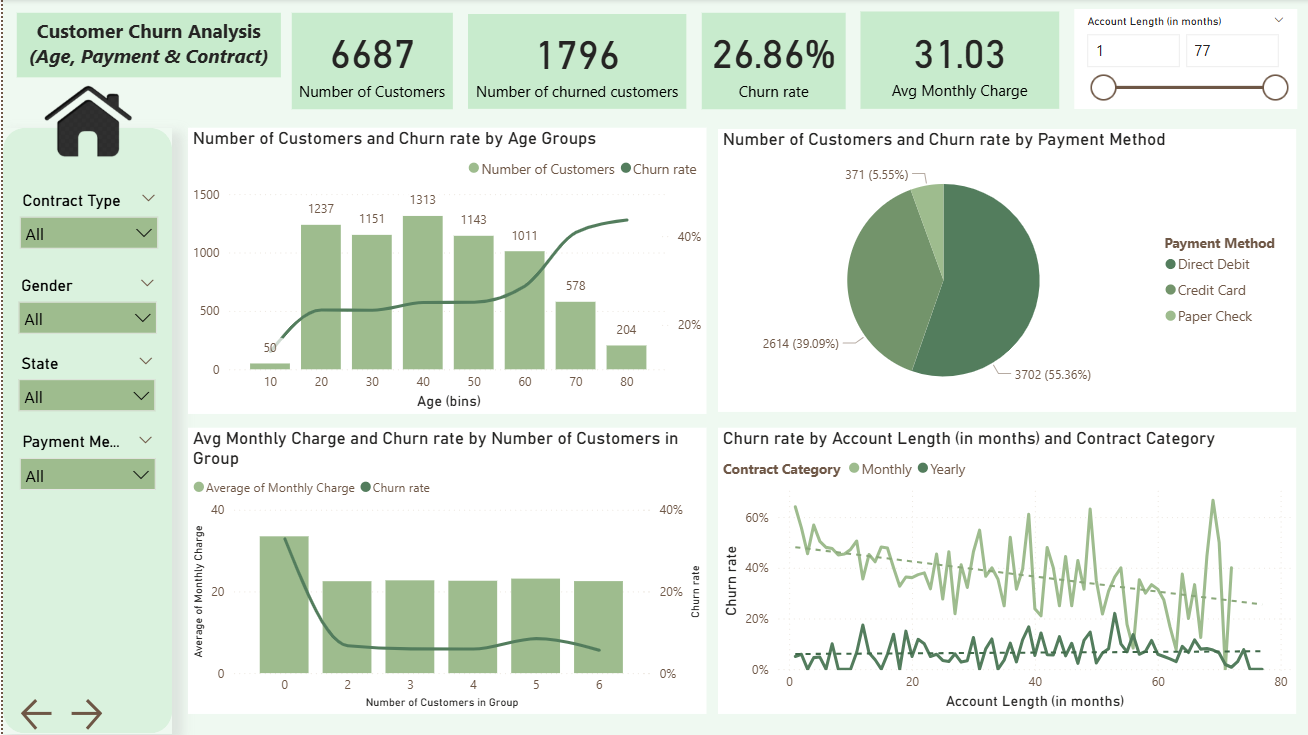

The dashboard page shown, as its layout file describes it:
{"tool":"powerbi","page":{"name":"Age, Payment & Contract","canvas":[1280,720],"ordinal":1},"visuals":[{"type":"shape","box":[0,125.7,165.7,592.9],"z":0},{"type":"textbox","box":[13.5,13.5,258,37.9],"z":1000},{"type":"image","box":[32.3,61.5,103.1,107.7],"z":2000},{"type":"slicer","fields":{"Values":["Databel - Data.Contract Type"]},"box":[5.8,183.2,155.8,85.1],"z":3000},{"type":"slicer","fields":{"Values":["Databel - Data.Gender"]},"box":[4.3,266.9,155.8,76.5],"z":4000},{"type":"slicer","fields":{"Values":["Databel - Data.State"]},"box":[4.3,341.9,154.4,77.9],"z":5000},{"type":"actionButton","box":[13,679.5,47.6,40.4],"z":6000},{"type":"actionButton","box":[60.6,679.5,51.9,40.4],"z":7000},{"type":"lineClusteredColumnComboChart","title":"Number of Customers and Churn rate by Age Groups","fields":{"Category":["Databel - Data.Age (bins)"],"Y2":["_Measures.Churn rate"],"Y":["_Measures.Number of Customers"]},"box":[181,126,507.5,280],"z":8000},{"type":"lineClusteredColumnComboChart","title":"Avg Monthly Charge and Churn rate by Number of Customers in Group","fields":{"Y":["Avg(Databel - Data.Monthly Charge)"],"Category":["Databel - Data.Number of Customers in Group"],"Y2":["_Measures.Churn rate"]},"box":[181,419.4,507.5,280],"z":9000},{"type":"slicer","fields":{"Values":["Databel - Data.Account Length (in months)"]},"box":[1048,9.8,217.7,97.8],"z":10000},{"type":"pieChart","fields":{"Category":["Databel - Data.Payment Method"],"Y":["_Measures.Number of Customers"]},"box":[699.7,127,565.6,277],"z":11000},{"type":"slicer","fields":{"Values":["Databel - Data.Payment Method"]},"box":[5.8,419.8,152.9,80.8],"z":12000},{"type":"lineChart","fields":{"Y":["_Measures.Churn rate"],"Category":["Databel - Data.Account Length (in months)"],"Series":["Databel - Data.Contract Category"]},"box":[699.7,419.8,565.6,279.9],"z":13000},{"type":"card","fields":{"Values":["_Measures.Number of Customers"]},"box":[282.5,13.5,157.7,94.2],"z":14000},{"type":"card","fields":{"Values":["_Measures.Number of churned customers"]},"box":[454.9,14.7,214,92.9],"z":15000},{"type":"card","fields":{"Values":["_Measures.Churn rate"]},"box":[683.6,13.5,140.6,94.2],"z":16000},{"type":"card","fields":{"Values":["Avg(Databel - Data.Monthly Charge)"]},"box":[838.9,12.2,194.4,95.4],"z":17000},{"type":"slicer","fields":{"Values":["Databel - Data.Age (bins)"]},"box":[5.8,493.4,152.9,72.1],"z":17001}]}

Visuals, with their boxes in screenshot pixels (x1, y1, x2, y2), scaled from the page's 1280x720 canvas onto the 1308x735 screenshot:
shape: 0/128/169/734
textbox: 14/14/277/52
image: 33/63/138/173
slicer - Databel - Data.Contract Type: 6/187/165/274
slicer - Databel - Data.Gender: 4/272/164/351
slicer - Databel - Data.State: 4/349/162/429
actionButton: 13/694/62/734
actionButton: 62/694/115/734
"Number of Customers and Churn rate by Age Groups" lineClusteredColumnComboChart: 185/129/704/414
"Avg Monthly Charge and Churn rate by Number of Customers in Group" lineClusteredColumnComboChart: 185/428/704/714
slicer - Databel - Data.Account Length (in months): 1071/10/1293/110
pieChart - Databel - Data.Payment Method x _Measures.Number of Customers: 715/130/1293/412
slicer - Databel - Data.Payment Method: 6/429/162/511
lineChart - _Measures.Churn rate x Databel - Data.Account Length (in months): 715/429/1293/714
card - _Measures.Number of Customers: 289/14/450/110
card - _Measures.Number of churned customers: 465/15/684/110
card - _Measures.Churn rate: 699/14/842/110
card - Avg(Databel - Data.Monthly Charge): 857/12/1056/110
slicer - Databel - Data.Age (bins): 6/504/162/577
